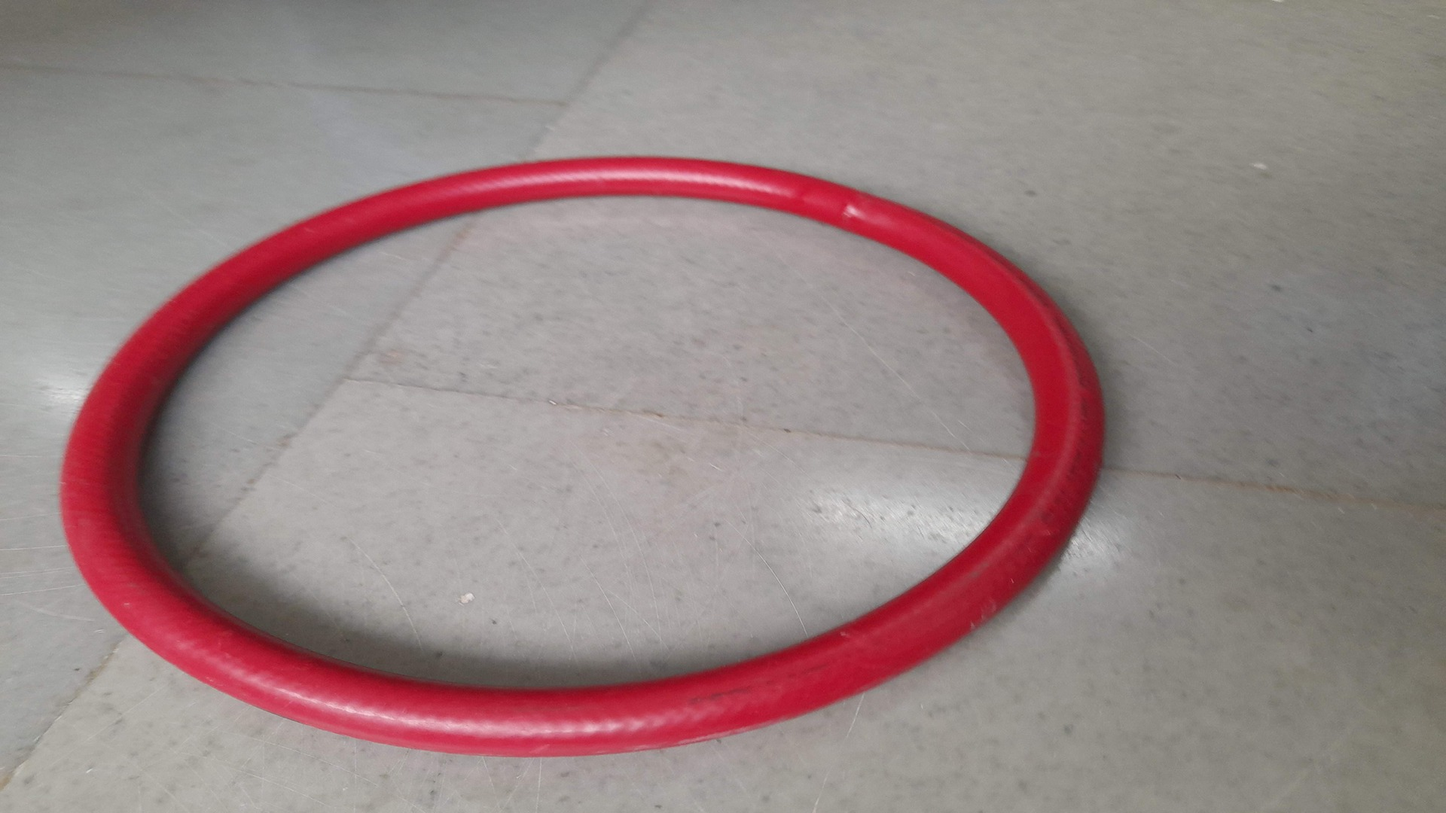Red ring: (62, 157, 1103, 760)
